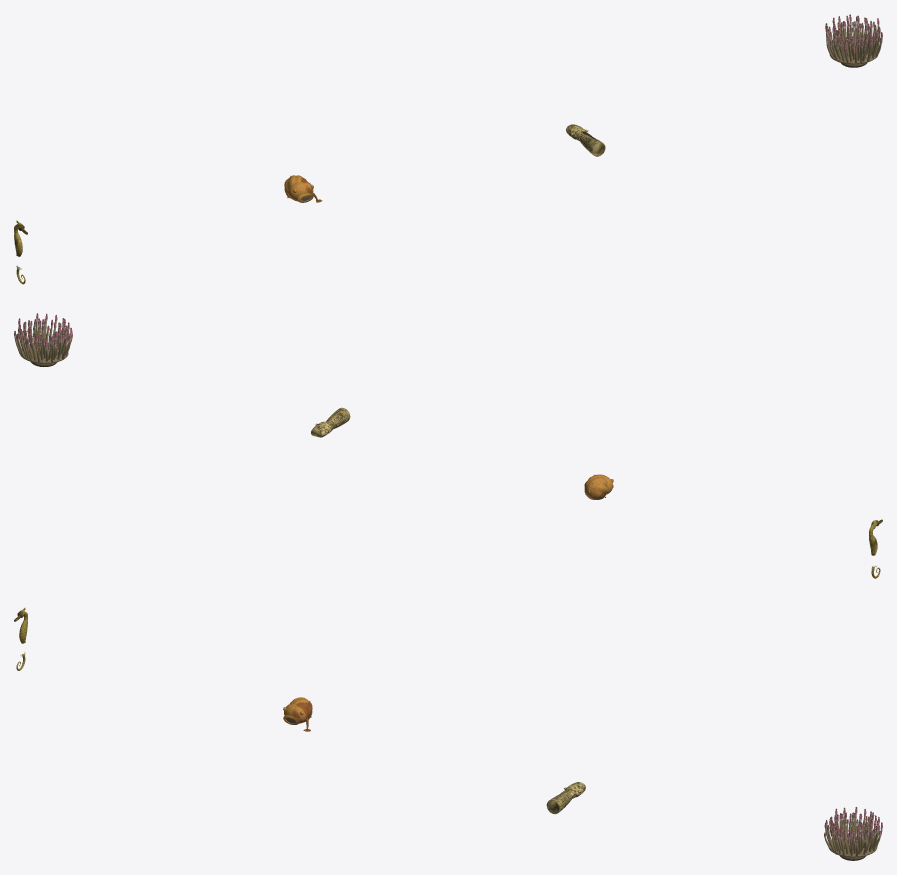
The model's file is anchored-life.glb.
3 views of the same model, one above another, from view 1: azimuth 30°, elevation 25°; view 2: azimuth 150°, elevation 25°; view 3: azimuth 330°, elevation 25° (orthographic).
Parts seen in each view (by area): view 1: AnemoneTissue, FrogBody; view 2: AnemoneTissue, FrogBody; view 3: AnemoneTissue, FrogBody.
Boxes of the visible parts, left/top/right/bottom form: AnemoneTissue: left=825, top=14, right=882, bottom=67; FrogBody: left=284, top=175, right=313, bottom=202; AnemoneTissue: left=14, top=313, right=72, bottom=366; FrogBody: left=584, top=474, right=613, bottom=499; AnemoneTissue: left=824, top=807, right=882, bottom=860; FrogBody: left=283, top=697, right=312, bottom=724.
Bounding box in the file's own units: 21.73 × 1.44 × 1.67.
9 materials, 5 textured.
